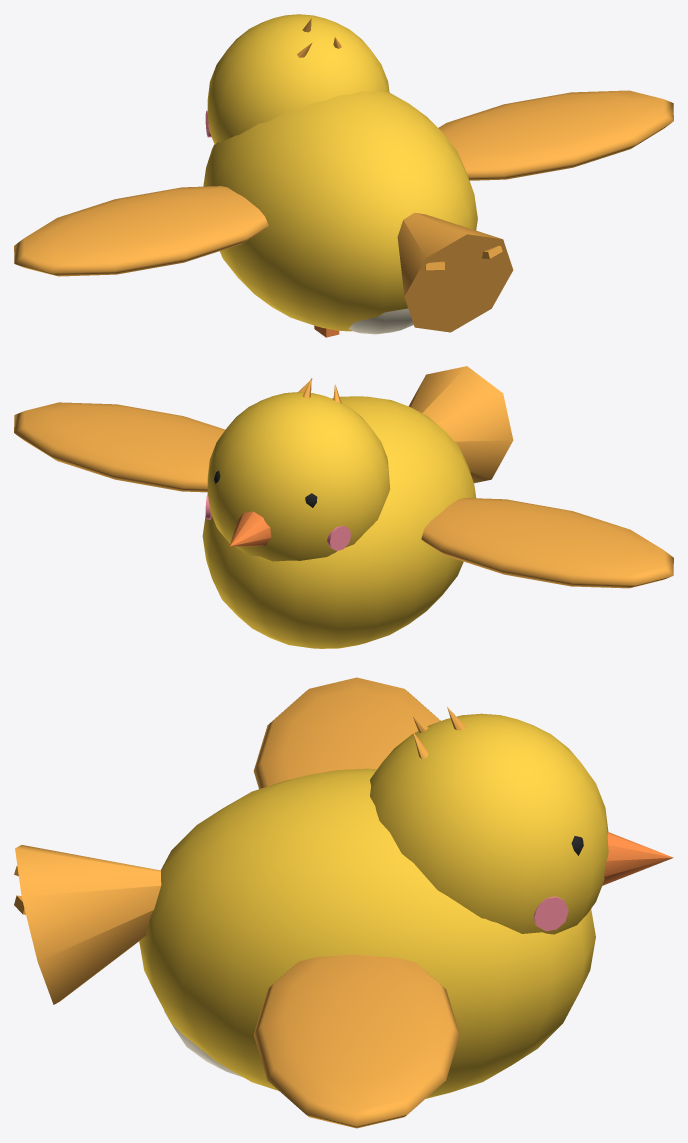
File: bird.glb
3 renders of one model, top to bottom at view 1: azimuth 30°, elevation 25°; view 2: azimuth 150°, elevation 25°; view 3: azimuth 270°, elevation 25°, orthographic. The views are drawn at different scales.
Visible parts, largest first — view 1: object 1, WingL, WingR, object 3, object 18, object 2; view 2: object 1, object 3, WingL, WingR, object 18, object 4, object 13; view 3: object 1, object 3, WingR, object 18, WingL, object 4, object 12.
Boxes of the visible parts, x1,y1,x2,y2 form: object 1: (203, 90, 477, 331); WingL: (14, 186, 268, 276); WingR: (438, 90, 673, 180); object 3: (207, 14, 389, 144); object 18: (397, 212, 513, 332); object 2: (348, 308, 413, 334); object 1: (202, 396, 476, 648); object 3: (207, 392, 390, 561); WingL: (421, 498, 673, 588); WingR: (14, 402, 225, 492); object 18: (408, 366, 513, 483); object 4: (230, 511, 271, 546); object 13: (327, 525, 351, 550); object 1: (139, 768, 595, 1098); object 3: (370, 713, 608, 934); WingR: (253, 954, 459, 1128); object 18: (15, 845, 161, 1004); WingL: (253, 677, 440, 788); object 4: (602, 832, 673, 885); object 12: (533, 896, 568, 931).
Size of the model in its own units: 5.08 by 2.02 by 3.17.
